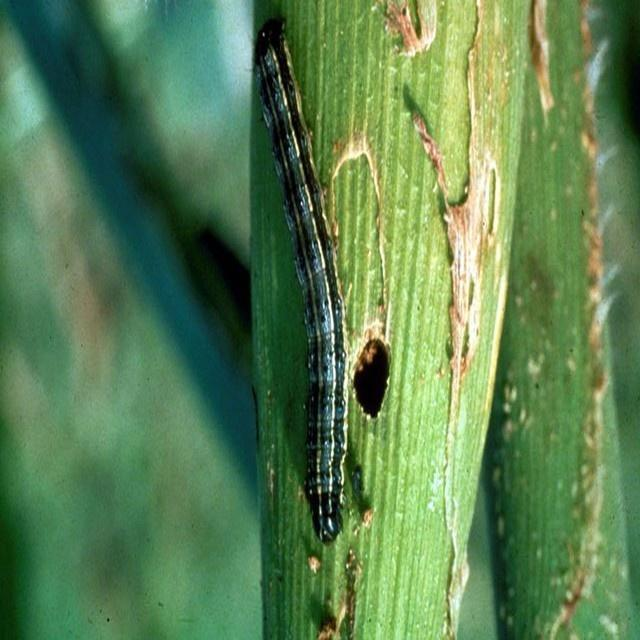gusano_cogollero: (260, 14, 350, 540)
